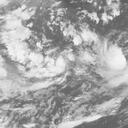cyclone: (55, 43, 113, 96)
